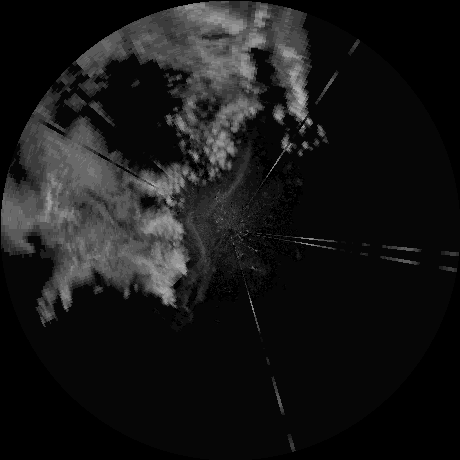frontgust: (179, 209, 209, 307), (211, 137, 252, 206)
